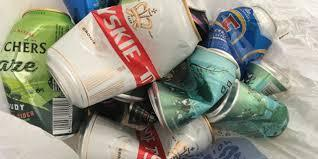metal: (52, 0, 197, 107), (152, 46, 289, 143), (0, 7, 86, 135), (76, 114, 214, 159), (199, 1, 278, 67)
